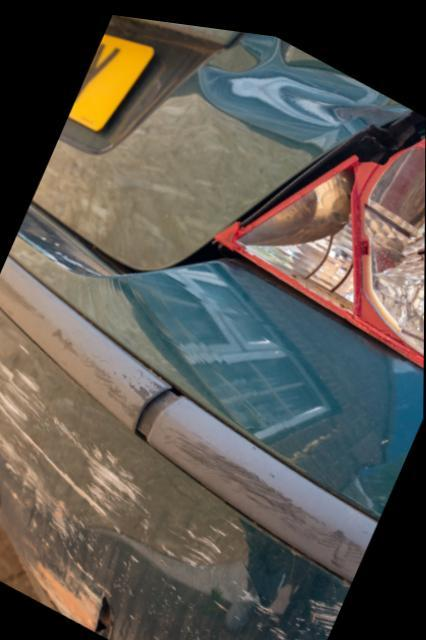crack: (95, 593, 112, 634)
dent: (199, 26, 411, 141)
lamp broken: (213, 101, 426, 355)
scratch: (0, 321, 348, 640), (163, 420, 369, 561), (0, 272, 159, 410)
